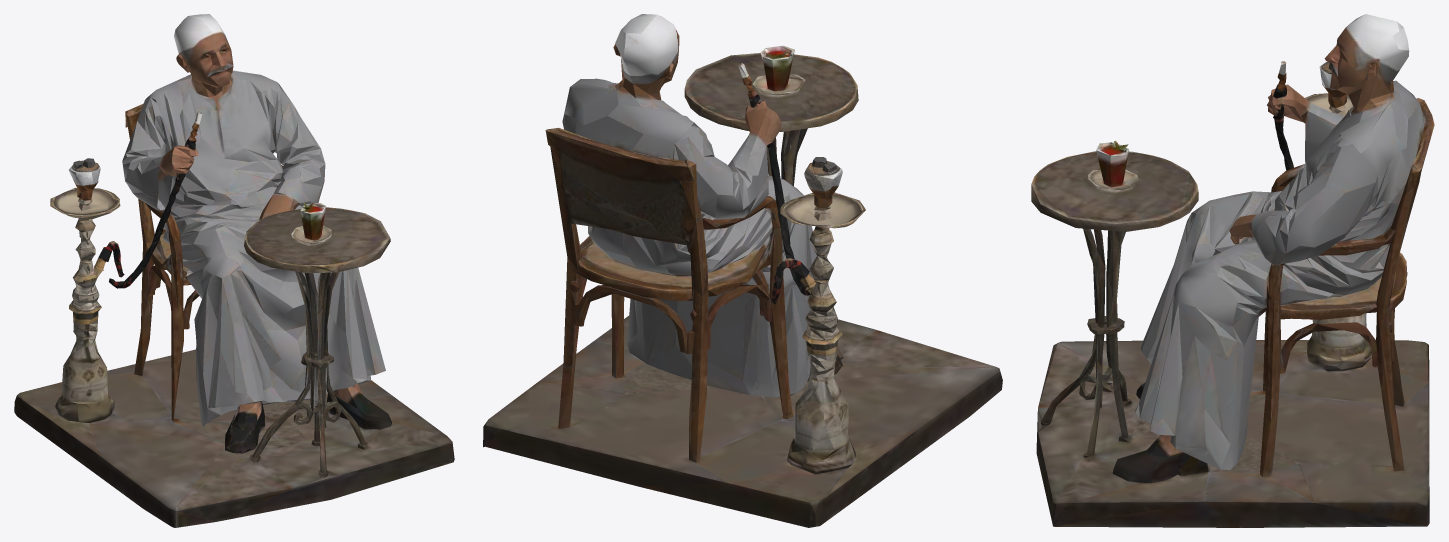
The model's file is ahwa.glb.
3 views of the same model, side by side, from view 1: azimuth 30°, elevation 25°; view 2: azimuth 150°, elevation 25°; view 3: azimuth 270°, elevation 25° (orthographic). The views are drawn at different scales.
Visible parts, largest first — view 1: output_unwrapped; view 2: output_unwrapped; view 3: output_unwrapped.
Part boxes in pixels (x1,y1,x2,y2): output_unwrapped: (14, 14, 454, 527); output_unwrapped: (483, 14, 1002, 527); output_unwrapped: (1031, 14, 1434, 527).
Bounding box in the file's own units: 1.49 × 1.9 × 1.56.
Materials: 1 (1 with a texture image).
